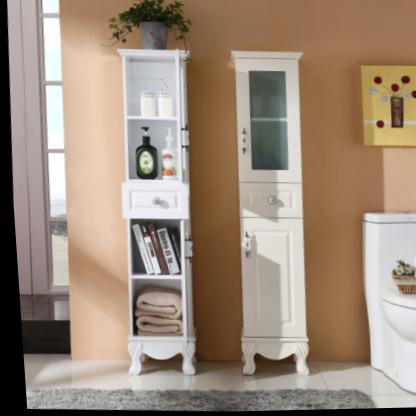Cupboard: (116, 49, 191, 389), (230, 52, 305, 389)
